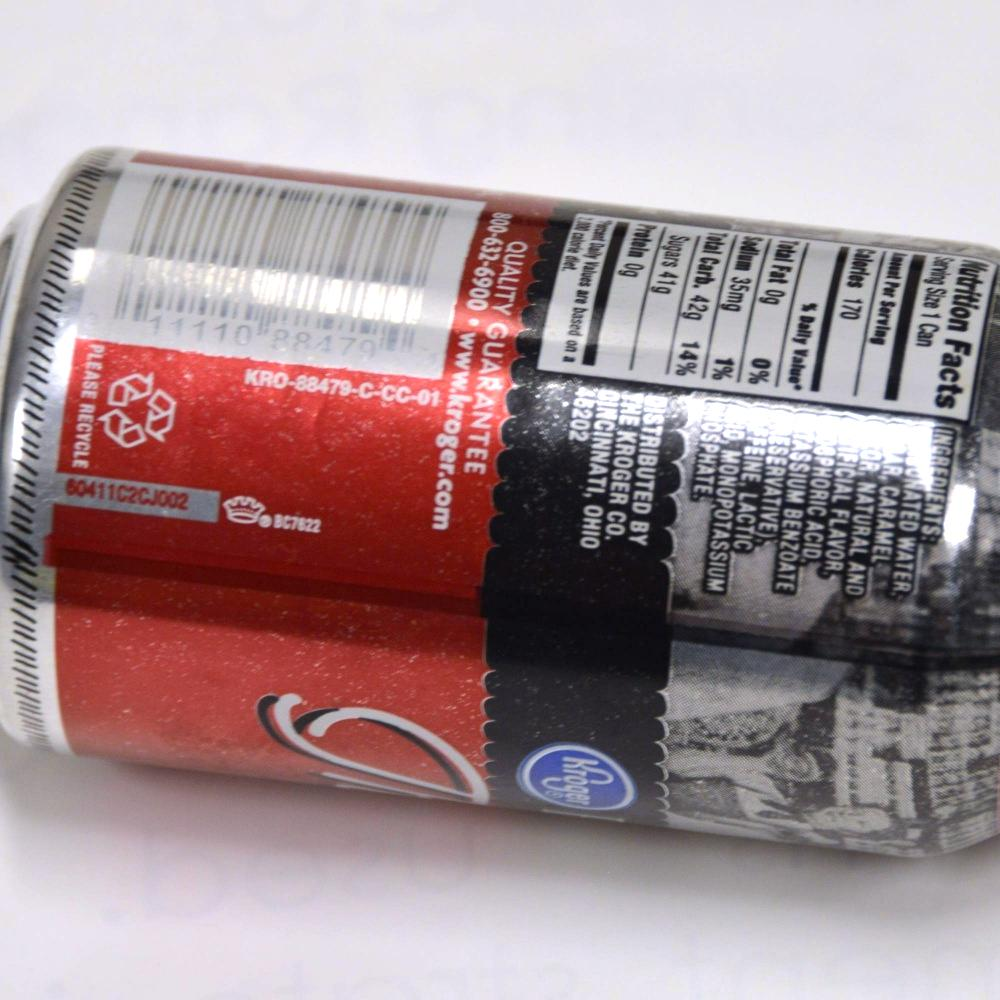Metal: (3, 137, 965, 873)
